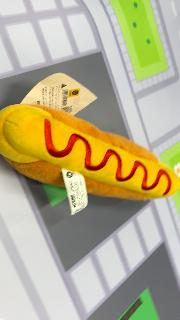hotdog: (1, 104, 179, 202)
